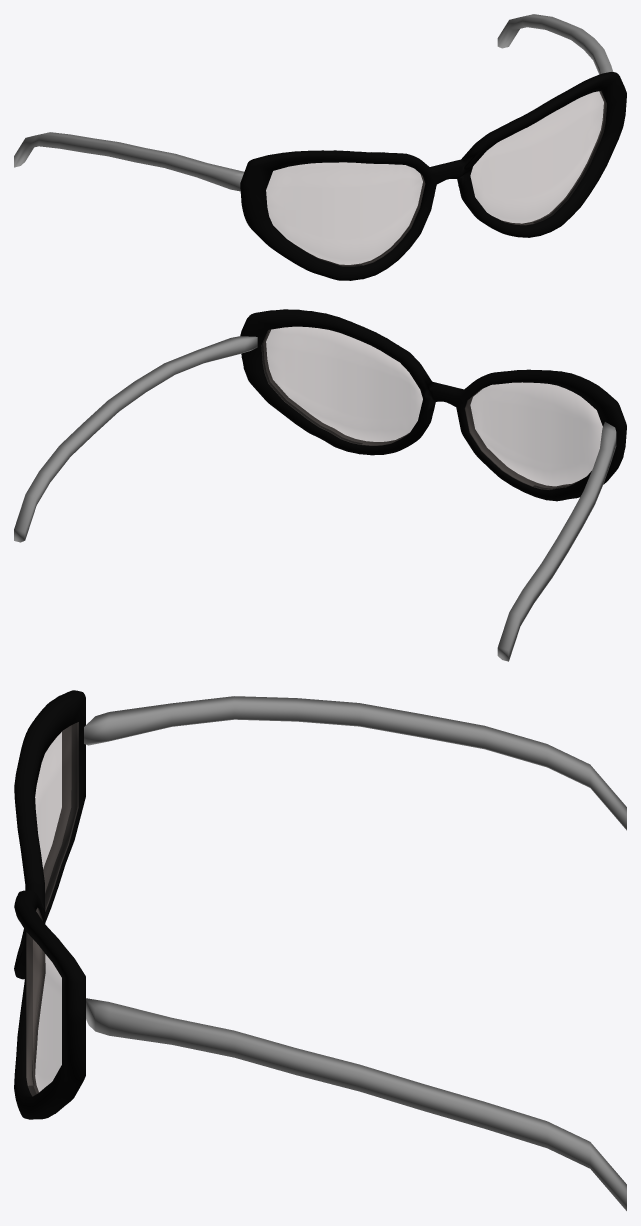
Rendered from glassesCateye.glb.
The picture shows the model from 3 angles, top to bottom: view 1: azimuth 30°, elevation 25°; view 2: azimuth 150°, elevation 25°; view 3: azimuth 270°, elevation 25°; orthographic projection. The views are drawn at different scales.
Parts seen in each view (by area): view 1: glassesCateye; view 2: glassesCateye; view 3: glassesCateye.
Boxes of the visible parts, left/top/right/bottom form: glassesCateye: left=14, top=14, right=626, bottom=280; glassesCateye: left=14, top=309, right=626, bottom=661; glassesCateye: left=14, top=690, right=626, bottom=1210.
Bounding box in the file's own units: 0.4642 × 0.1203 × 0.3116.
Materials: 2 (1 with a texture image).
